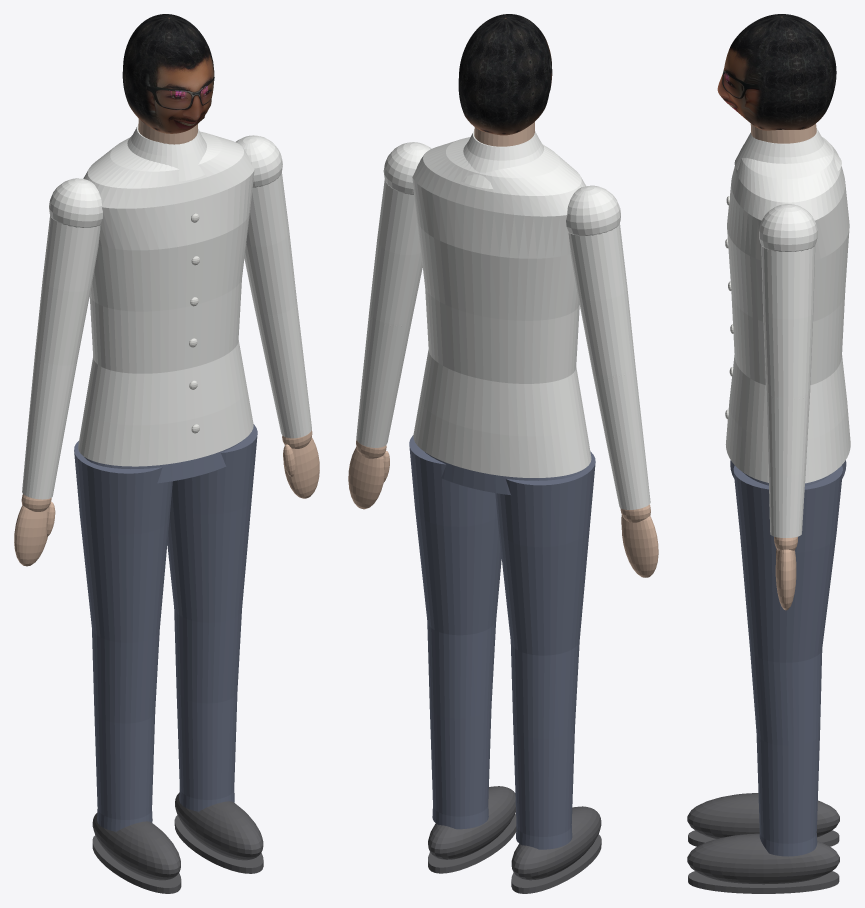
File: rutu.glb
3 views of the same model, side by side, from view 1: azimuth 30°, elevation 25°; view 2: azimuth 150°, elevation 25°; view 3: azimuth 270°, elevation 25° (orthographic).
Parts seen in each view (by area): view 1: shirt, pants, shoes, head, skin; view 2: shirt, pants, head, shoes, skin; view 3: shirt, pants, head, shoes, skin.
Boxes of the visible parts, bbox=[...] form: shirt: bbox=[22, 125, 311, 499]; pants: bbox=[74, 424, 257, 831]; shoes: bbox=[92, 792, 263, 893]; head: bbox=[122, 14, 214, 133]; skin: bbox=[14, 119, 319, 566]; shirt: bbox=[356, 130, 650, 509]; pants: bbox=[409, 435, 595, 849]; head: bbox=[458, 14, 552, 135]; shoes: bbox=[428, 786, 601, 893]; skin: bbox=[348, 122, 658, 577]; shirt: bbox=[725, 128, 850, 537]; pants: bbox=[730, 460, 846, 856]; head: bbox=[717, 14, 836, 130]; shoes: bbox=[687, 793, 839, 893]; skin: bbox=[750, 123, 816, 610].
Size of the model in its own units: 0.651 by 1.7 by 0.2984.
Materials: 6 (1 with a texture image).
